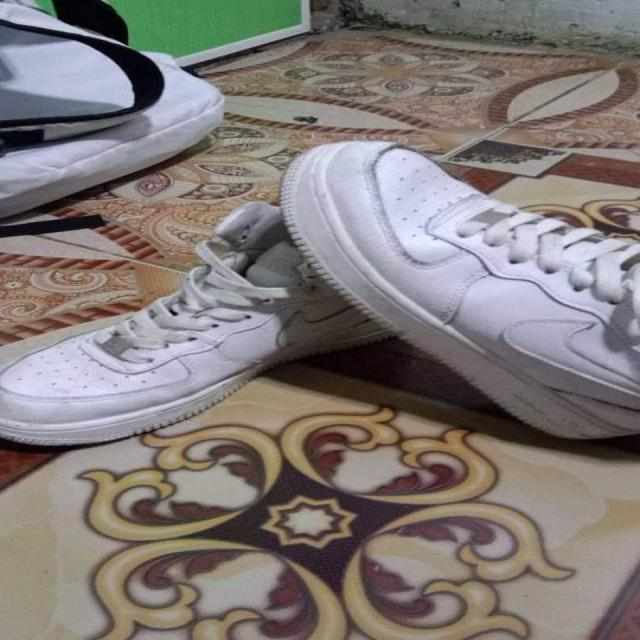nike fake air force: (0, 205, 409, 462), (276, 140, 636, 419)
